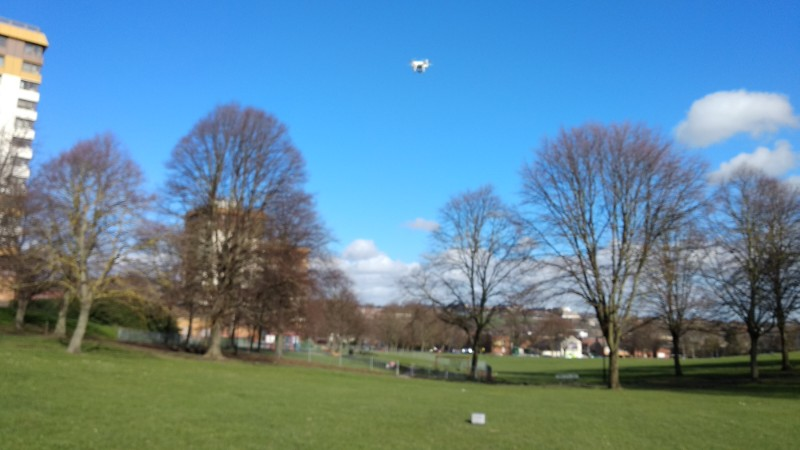drone: (410, 58, 433, 75)
